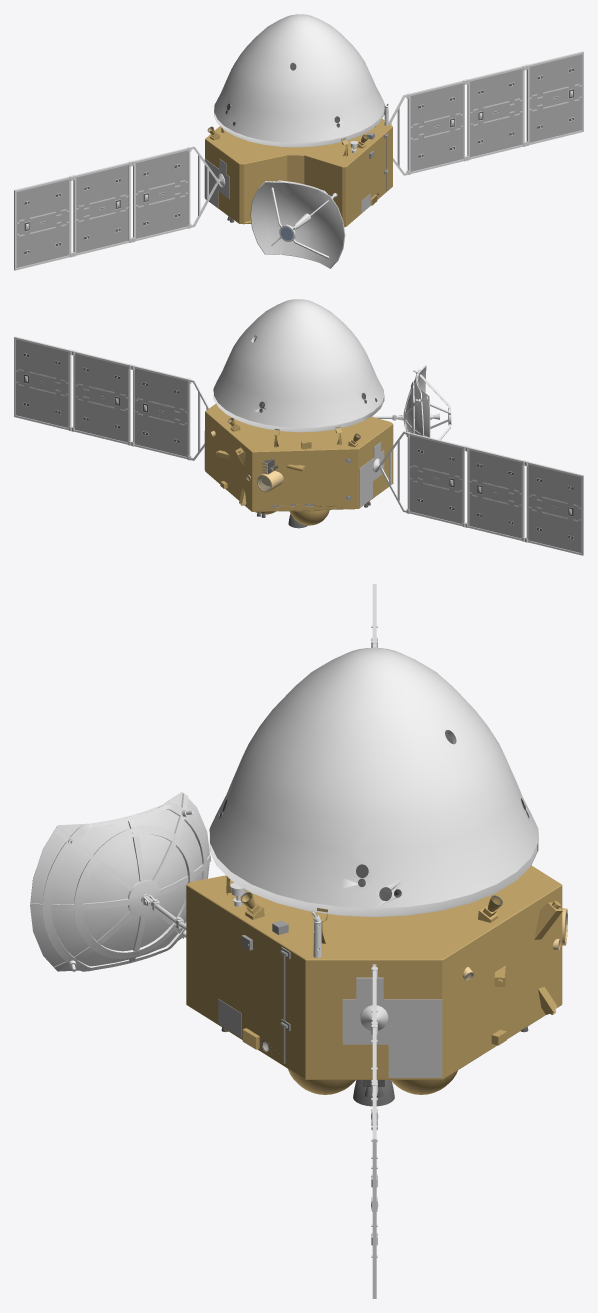
Rendered from tianwen1.glb.
3 renders of one model, top to bottom at view 1: azimuth 30°, elevation 25°; view 2: azimuth 150°, elevation 25°; view 3: azimuth 270°, elevation 25°, orthographic. The views are drawn at different scales.
Visible parts, largest first — view 1: tianwen_12, tianwen_00, tianwen_96, tianwen_62, tianwen_65, tianwen_53, tianwen_56, tianwen_50, tianwen_67, tianwen_61, tianwen_01, tianwen_48 (+13 smaller); view 2: tianwen_12, tianwen_00, tianwen_62, tianwen_67, tianwen_65, tianwen_53, tianwen_50, tianwen_56, tianwen_96, tianwen_61, tianwen_01, tianwen_48 (+15 smaller); view 3: tianwen_12, tianwen_00, tianwen_96, tianwen_75, tianwen_84, tianwen_01, tianwen_83, tianwen_26, tianwen_51.
Boxes of the visible parts, x1,y1,x2,y2 form: tianwen_12: [214, 14, 384, 142]; tianwen_00: [205, 118, 392, 227]; tianwen_96: [250, 181, 345, 268]; tianwen_62: [16, 179, 69, 267]; tianwen_65: [76, 165, 128, 253]; tianwen_53: [470, 69, 522, 157]; tianwen_56: [410, 83, 462, 171]; tianwen_50: [529, 54, 581, 142]; tianwen_67: [136, 150, 188, 238]; tianwen_61: [71, 161, 132, 256]; tianwen_01: [214, 104, 384, 147]; tianwen_48: [466, 65, 526, 160]; tianwen_12: [213, 299, 383, 427]; tianwen_00: [205, 404, 393, 511]; tianwen_62: [528, 464, 581, 552]; tianwen_67: [409, 435, 462, 523]; tianwen_65: [469, 450, 521, 538]; tianwen_53: [75, 354, 127, 442]; tianwen_50: [16, 339, 68, 427]; tianwen_56: [135, 368, 187, 456]; tianwen_96: [393, 365, 451, 439]; tianwen_61: [465, 446, 526, 541]; tianwen_01: [213, 389, 384, 432]; tianwen_48: [71, 350, 132, 445]; tianwen_12: [210, 647, 537, 908]; tianwen_00: [186, 865, 562, 1079]; tianwen_96: [30, 792, 209, 971]; tianwen_75: [342, 977, 442, 1077]; tianwen_84: [42, 803, 207, 971]; tianwen_01: [209, 828, 538, 916]; tianwen_83: [74, 825, 194, 958]; tianwen_26: [288, 1069, 457, 1094]; tianwen_51: [371, 1082, 377, 1298].
Size of the model in its own units: 658 by 245 by 269.
